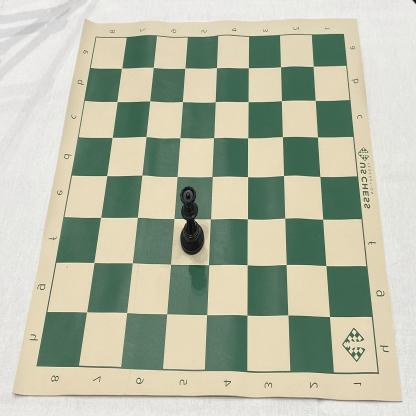black-queen: (180, 185, 204, 256)
